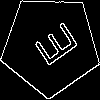E: (25, 20, 80, 74)
